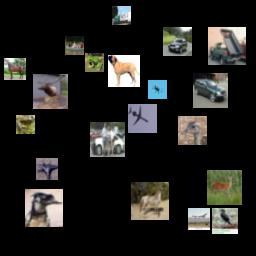airplane: (128, 104, 157, 133), (36, 158, 58, 180), (188, 208, 210, 230), (148, 80, 167, 99)
automobile: (90, 122, 125, 157), (193, 73, 228, 108), (163, 27, 192, 56)
bird: (25, 189, 63, 227), (178, 116, 207, 145), (212, 208, 238, 234)
deer: (33, 74, 68, 109), (207, 170, 242, 205)
dog: (108, 55, 140, 87)
frog: (16, 115, 35, 134), (85, 53, 104, 72)
ship: (65, 36, 84, 55)
truck: (208, 27, 246, 65), (112, 6, 131, 25)
